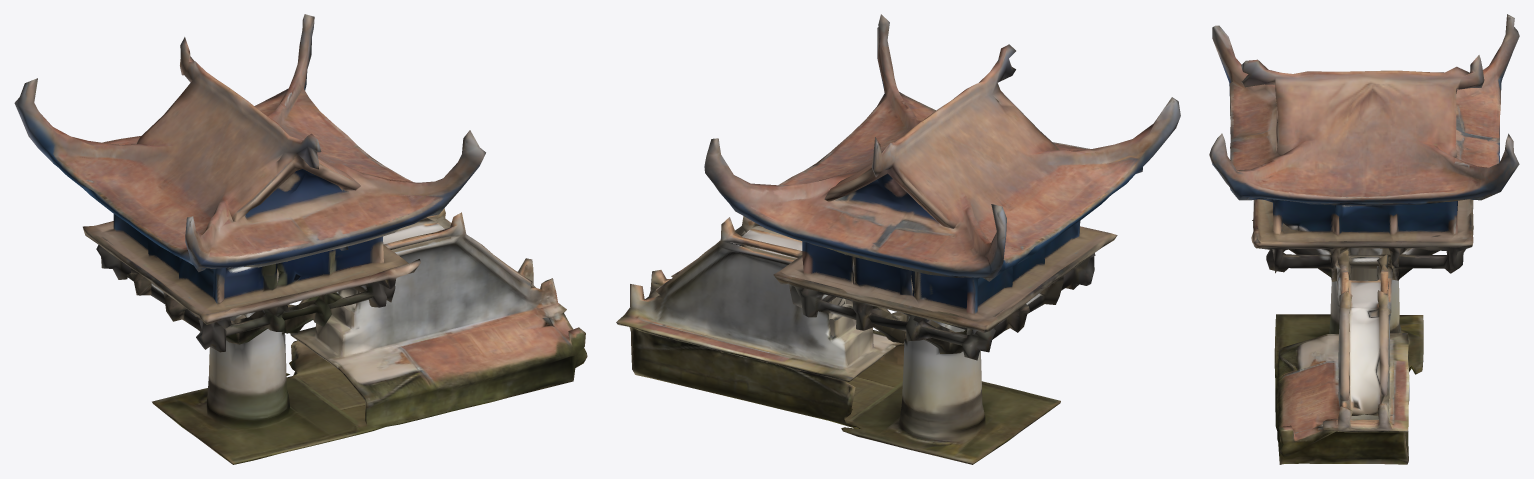
The model's file is Chua_Mot_Cot.fbx.
3 views of the same model, side by side, from view 1: azimuth 30°, elevation 25°; view 2: azimuth 150°, elevation 25°; view 3: azimuth 270°, elevation 25° (orthographic). The views are drawn at different scales.
Parts seen in each view (by area): view 1: Mesh1.0; view 2: Mesh1.0; view 3: Mesh1.0.
Part boxes in pixels (bbox=[...]): Mesh1.0: bbox=[14, 14, 587, 464]; Mesh1.0: bbox=[616, 14, 1180, 464]; Mesh1.0: bbox=[1209, 14, 1519, 464].
Size of the model in its own units: 199 by 142 by 137.
Materials: 1 (1 with a texture image).
